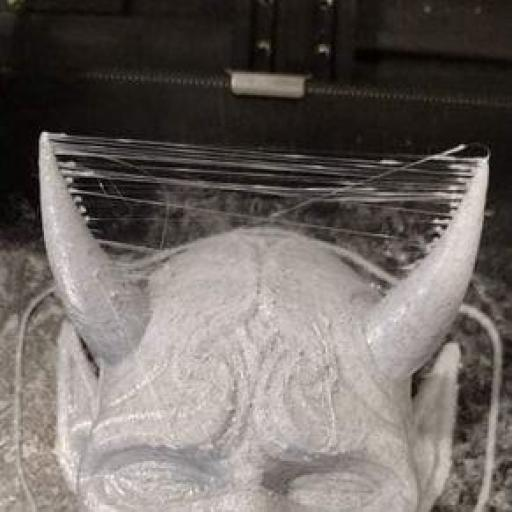stringing: (49, 142, 304, 206), (304, 155, 478, 214)
